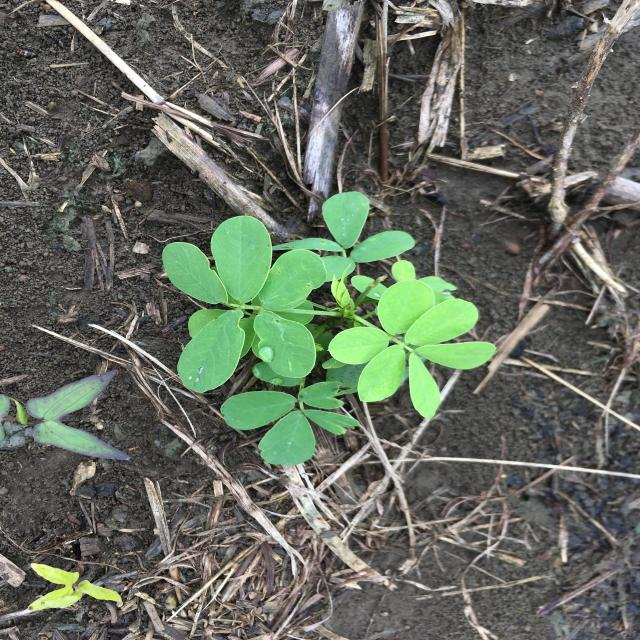MorningGlory: (1, 369, 130, 459), (25, 563, 122, 612)
Sicklepod: (162, 191, 497, 466)
